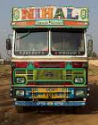truck: (6, 5, 93, 113)
